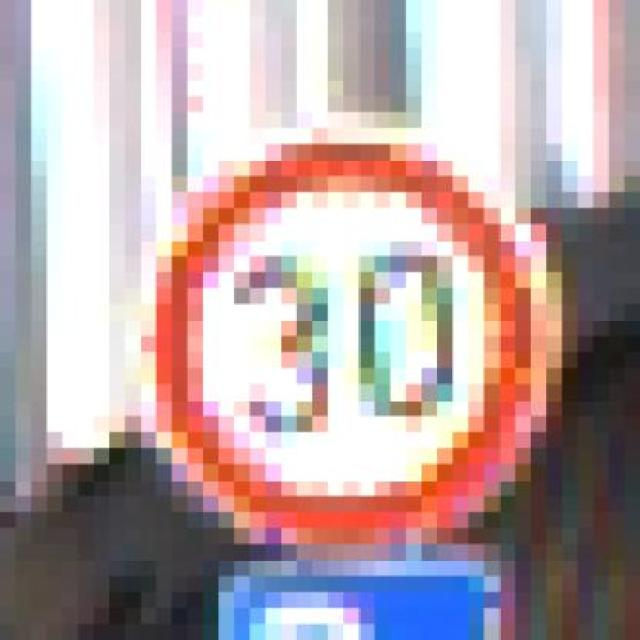Speed Limit 30 KMPh: (93, 96, 593, 544)
